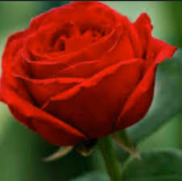RedRose: (0, 2, 182, 157)
